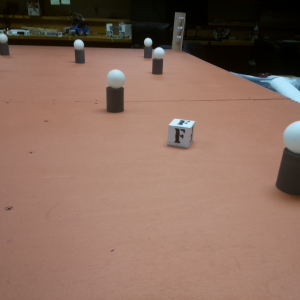obstacle: (276, 118, 300, 196), (106, 70, 125, 114), (151, 46, 166, 75), (72, 38, 86, 65), (1, 32, 11, 56), (143, 38, 154, 59)
